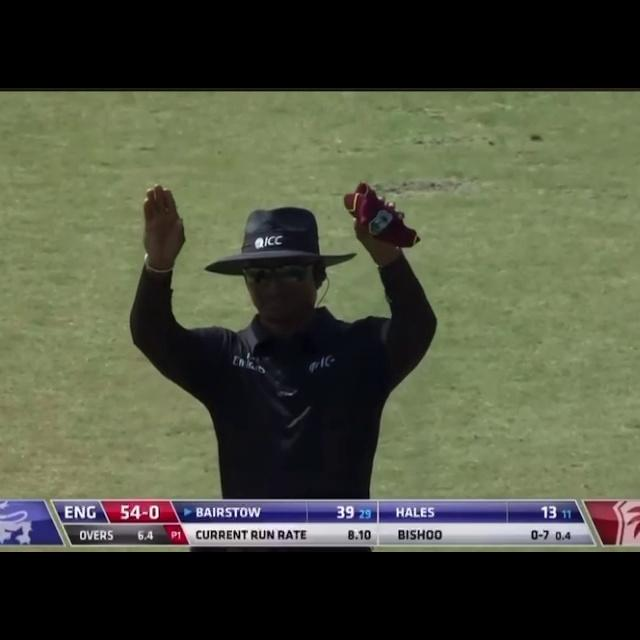umpire: (108, 144, 460, 496)
